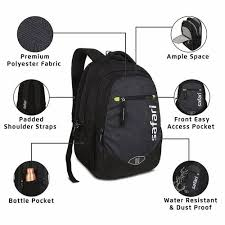backpack: (65, 47, 162, 182)
